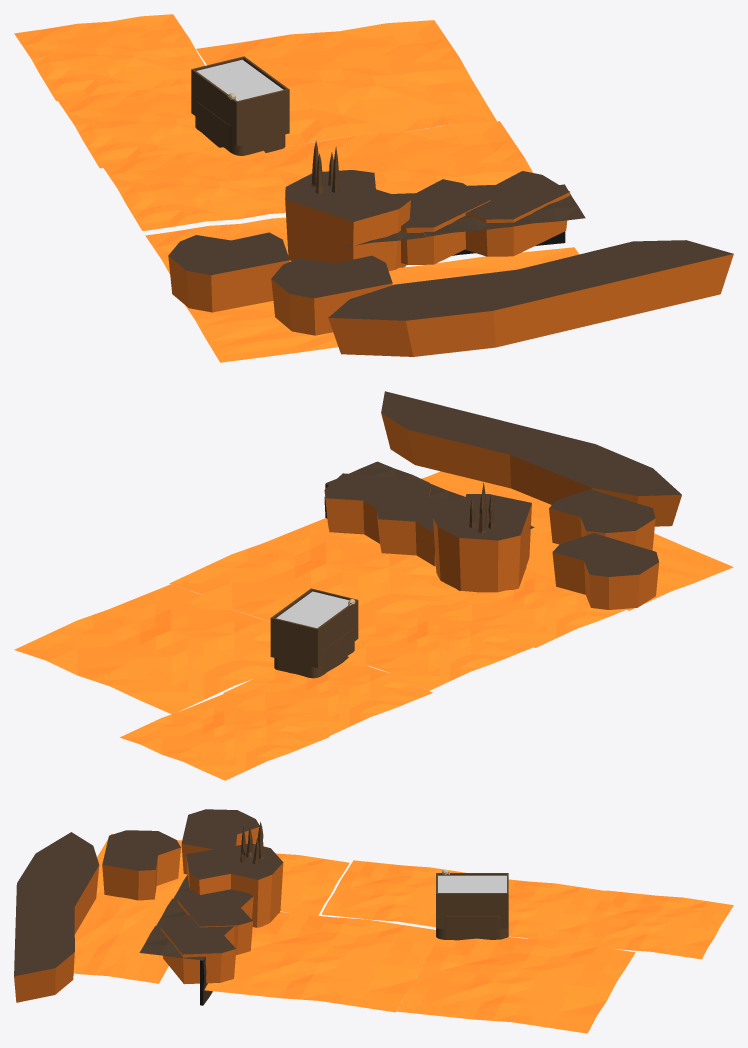
Rendered from Environment.fbx.
The picture shows the model from 3 angles, top to bottom: view 1: azimuth 30°, elevation 25°; view 2: azimuth 150°, elevation 25°; view 3: azimuth 270°, elevation 25°; orthographic projection. The views are drawn at different scales.
Parts seen in each view (by area): view 1: -mesh (×3); view 2: -mesh (×3); view 3: -mesh (×3).
Part boxes in pixels (<box>): -mesh (×3): <box>14,14,733,362</box>; -mesh (×3): <box>14,391,733,780</box>; -mesh (×3): <box>14,809,733,1033</box>.
Size of the model in its own units: 28.6 by 6.78 by 43.54.
